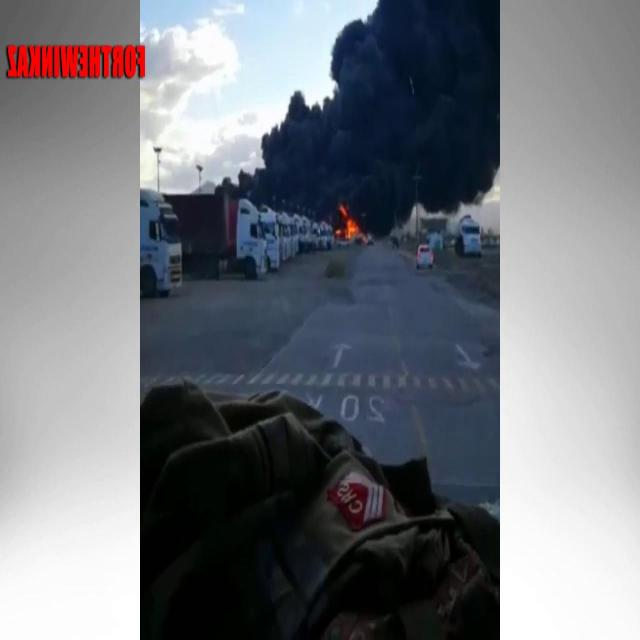smoke: (339, 22, 492, 194), (261, 134, 336, 212)
